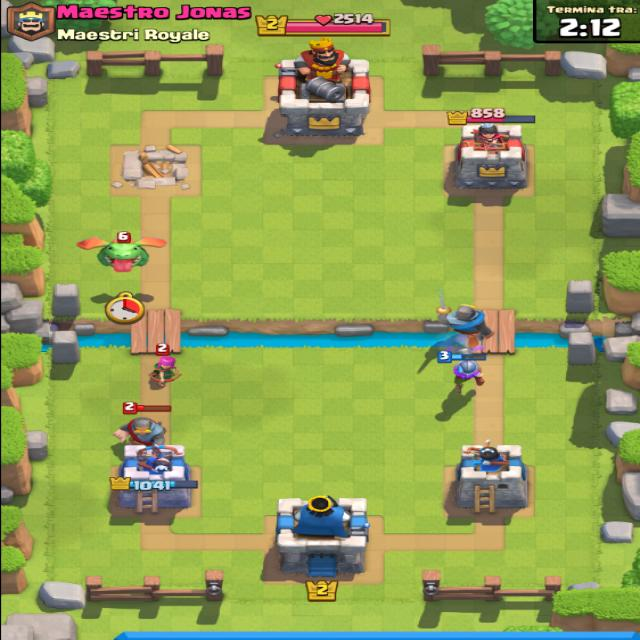Enemy-Archer: (144, 340, 186, 390)
Enemy-BabyDragon: (72, 227, 171, 275)
Enemy-Knight: (114, 402, 170, 451)
Player-Knight: (438, 307, 495, 353)
Player-Minion: (448, 353, 492, 390)
